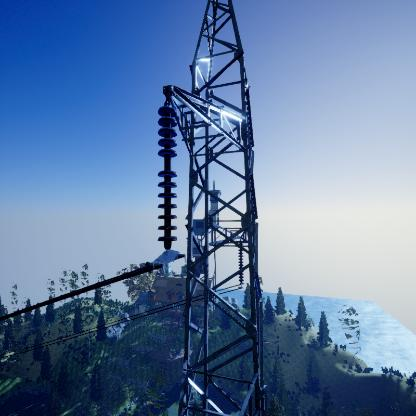insulator: (155, 104, 179, 248), (238, 245, 244, 287)
